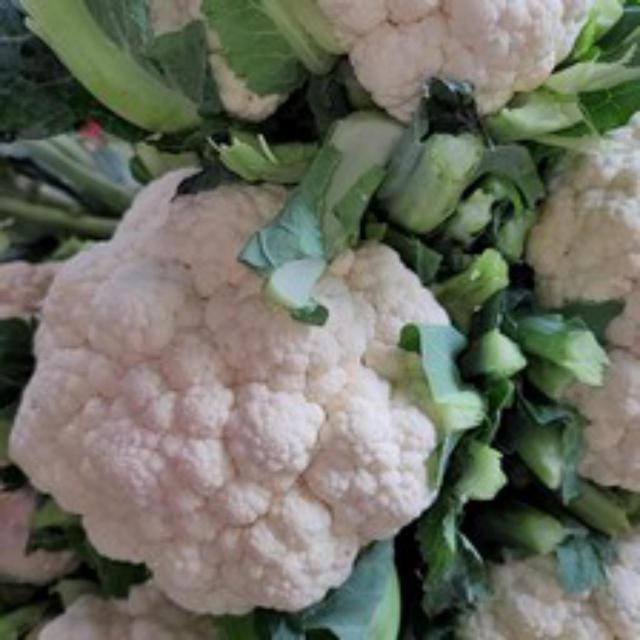cauliflower: (13, 162, 475, 623)
